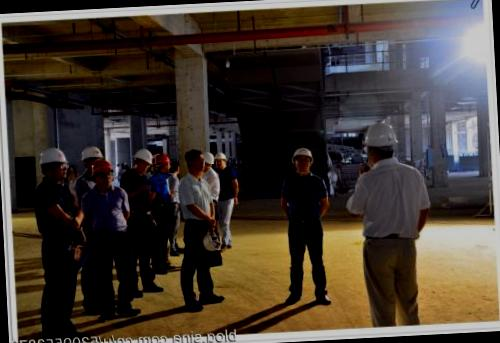no_helmet: (182, 146, 207, 178)
